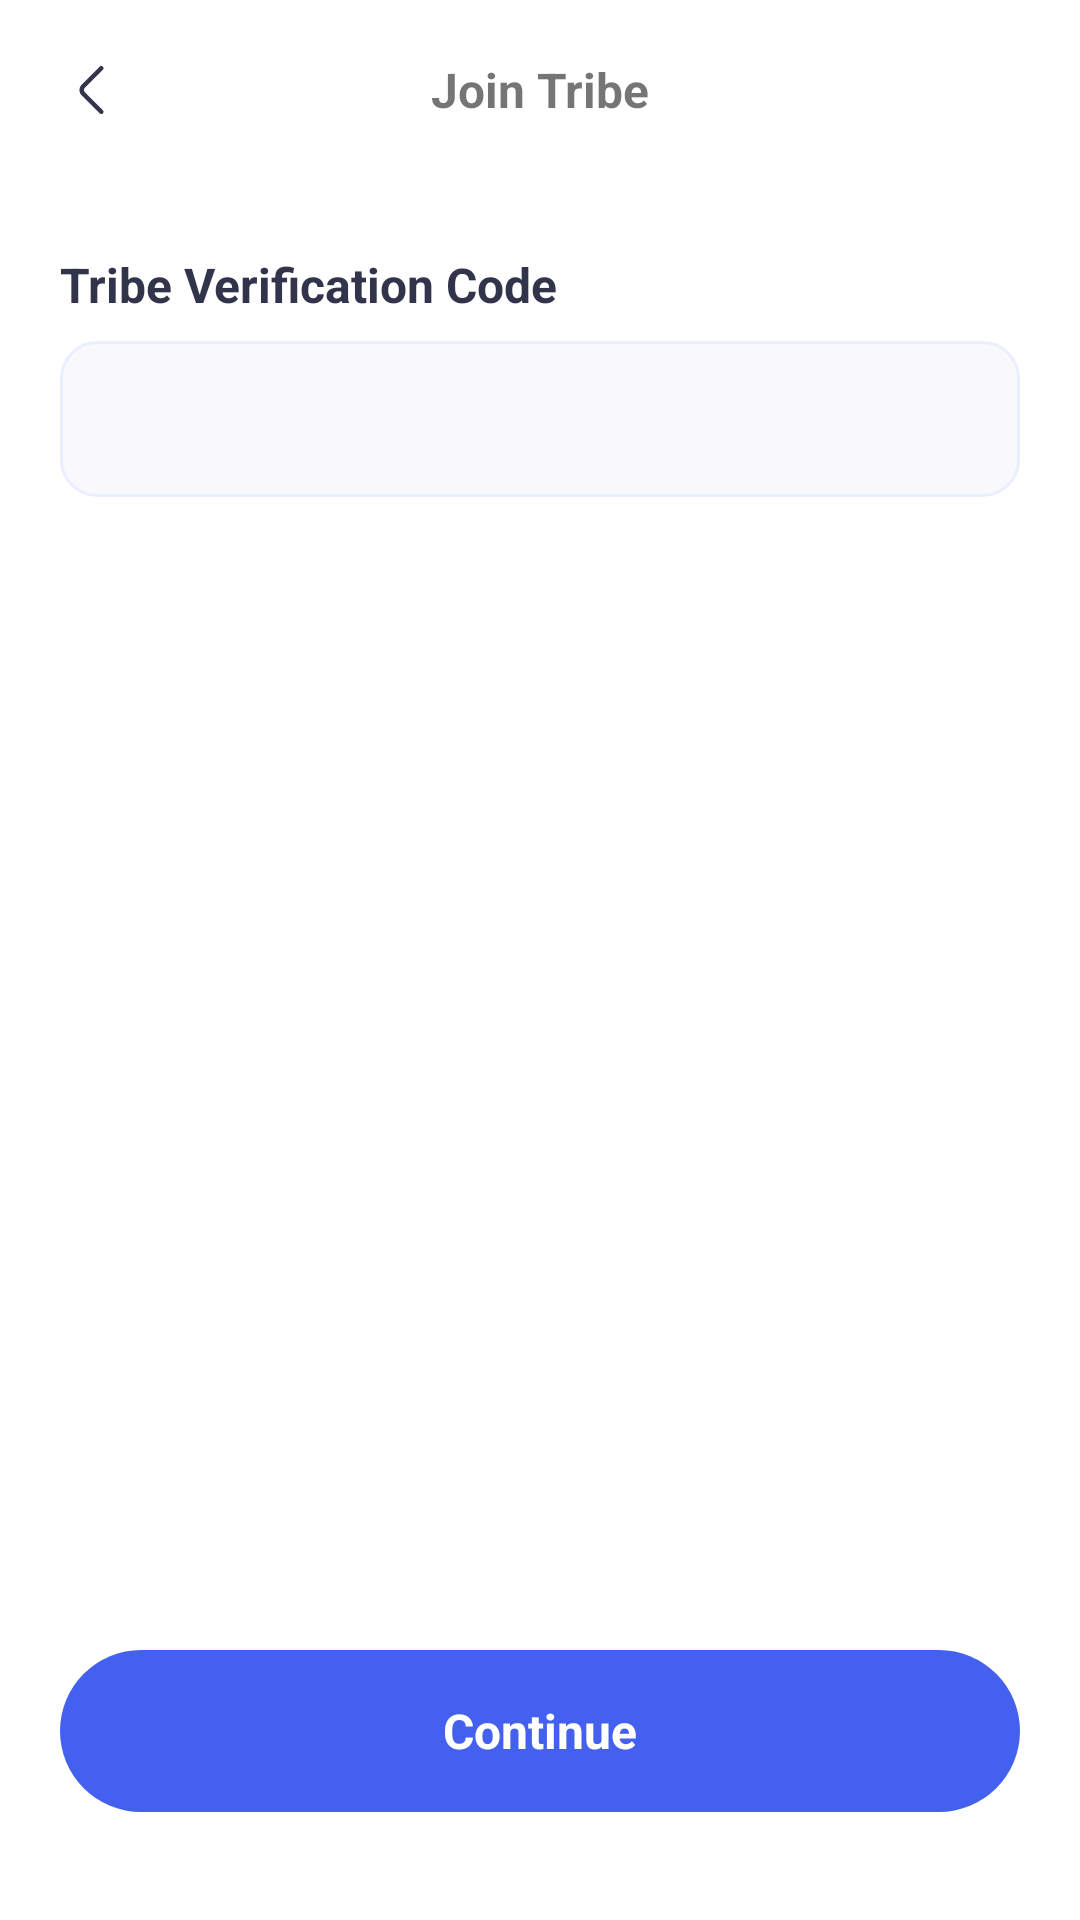

Icons on this 1080px x 1920px Android screen, each with the point to tap as (x=x, y=y):
navigation back: (x=91, y=90)
